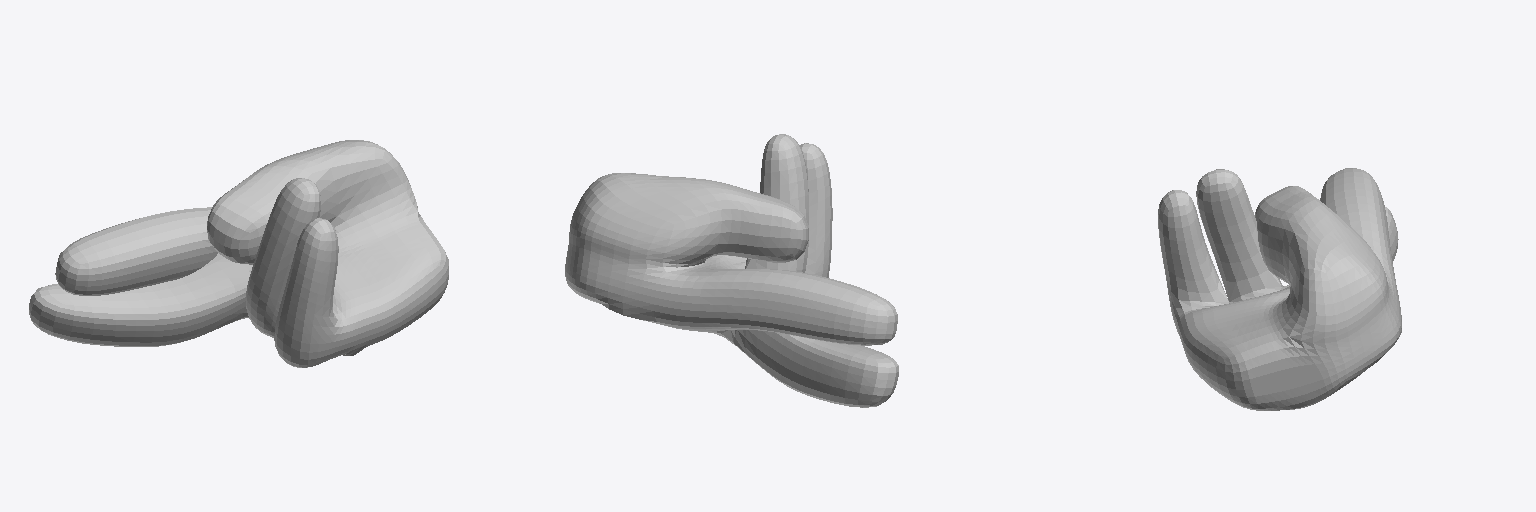
3 renders of one model, left to right at view 1: azimuth 30°, elevation 25°; view 2: azimuth 150°, elevation 25°; view 3: azimuth 270°, elevation 25°, orthographic.
Parts seen in each view (by area): view 1: R_Hand; view 2: R_Hand; view 3: R_Hand.
Boxes of the visible parts, <box> form: R_Hand: <box>29,140,448,367</box>; R_Hand: <box>565,134,898,407</box>; R_Hand: <box>1158,168,1401,410</box>.
Size of the model in its own units: 183 by 93.17 by 111.